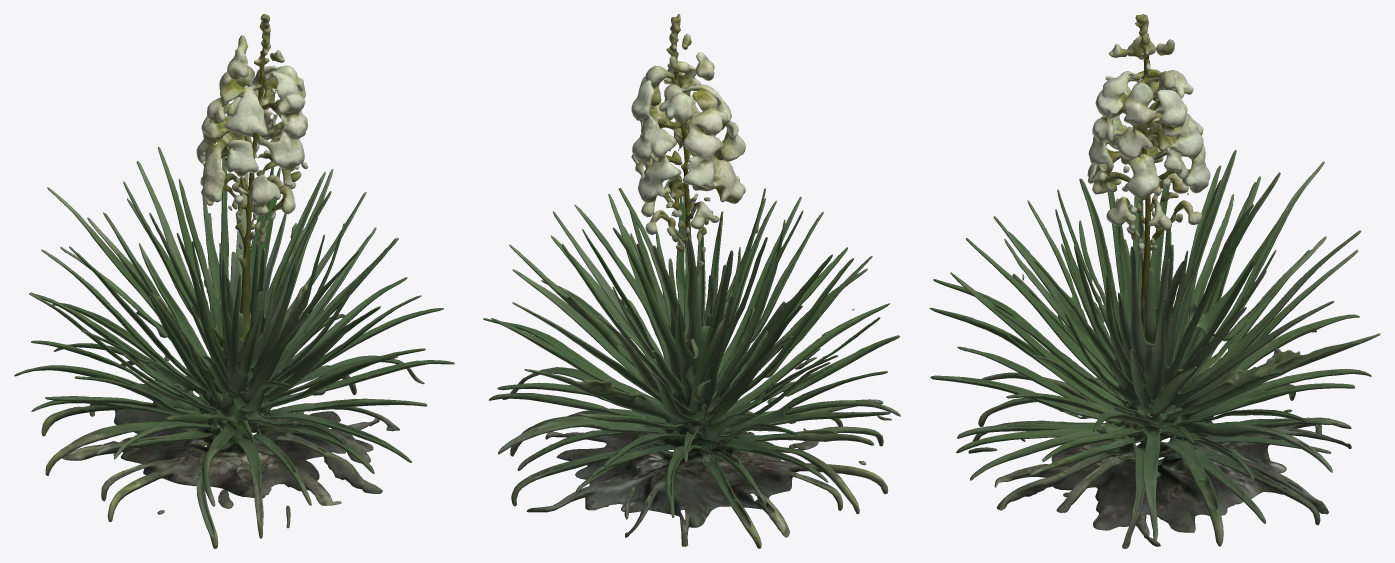
The model's file is flower-yucca.glb.
3 renders of one model, left to right at view 1: azimuth 30°, elevation 25°; view 2: azimuth 150°, elevation 25°; view 3: azimuth 270°, elevation 25°, orthographic. The views are drawn at different scales.
Parts seen in each view (by area): view 1: world; view 2: world; view 3: world.
Boxes of the visible parts, box(x1,y1,x2,y2) form: world: box(14, 14, 454, 548); world: box(483, 14, 900, 548); world: box(929, 14, 1380, 548).
Bounding box in the file's own units: 0.8916 × 1 × 0.8567.
Materials: 1 (1 with a texture image).
